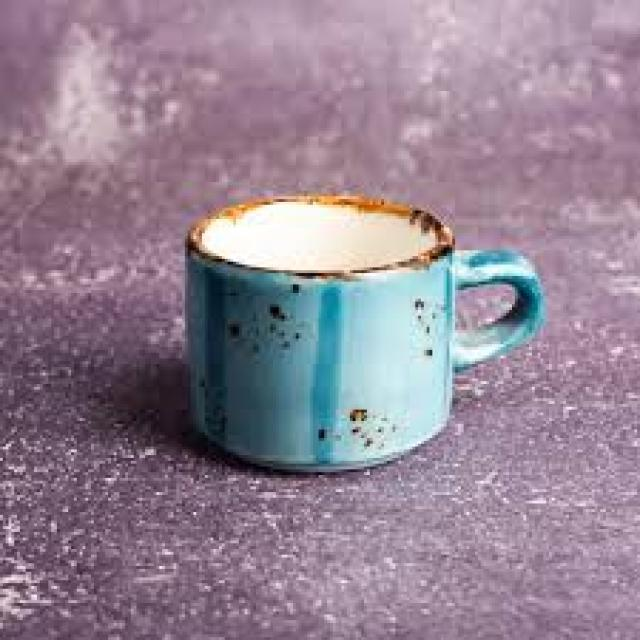taza: (186, 192, 544, 472)
